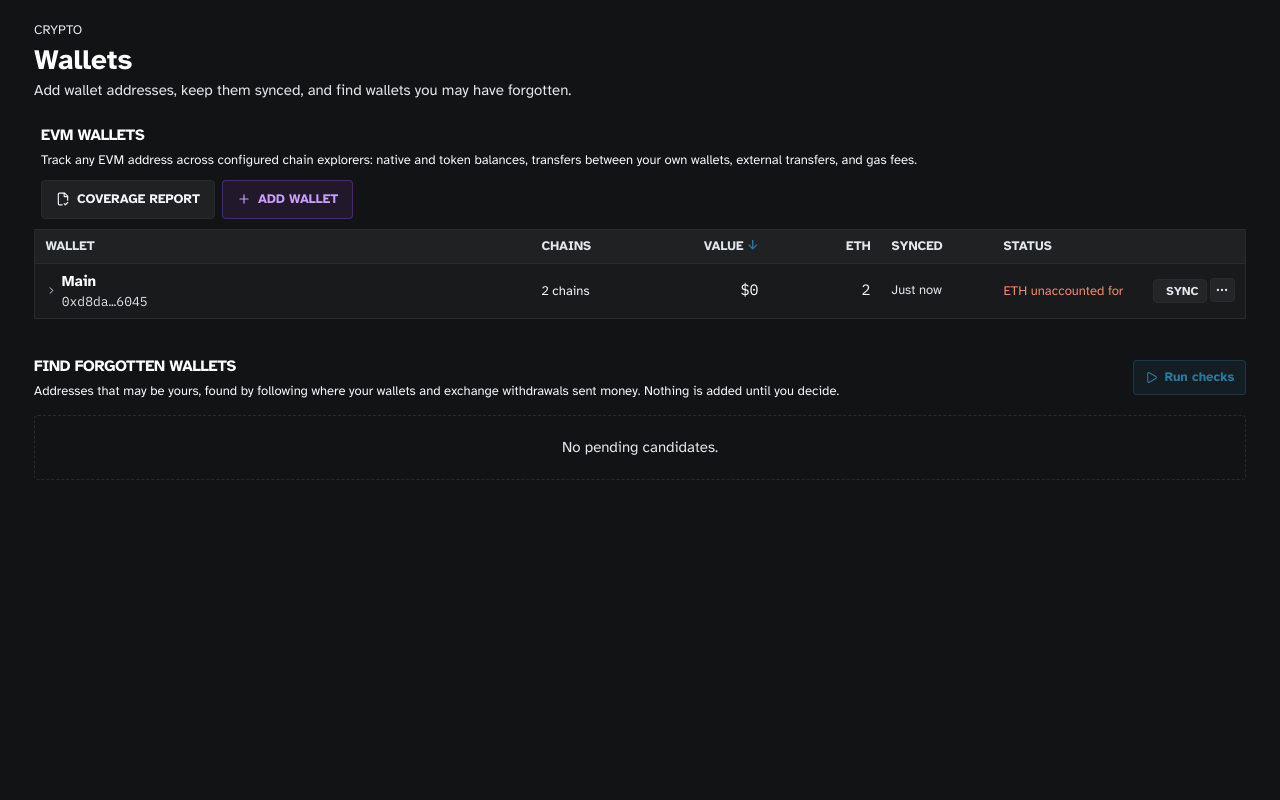
Test: Crypto -> Wallets tab › raises an alert when the derived ETH balance is short
Expected: the heading "EVM Wallets" is shown, [41, 125, 144, 145]
Expected: the text "ETH unaccounted for" is shown, [1004, 283, 1123, 299]
Click the text "Main": (79, 281) [62, 272, 96, 290]
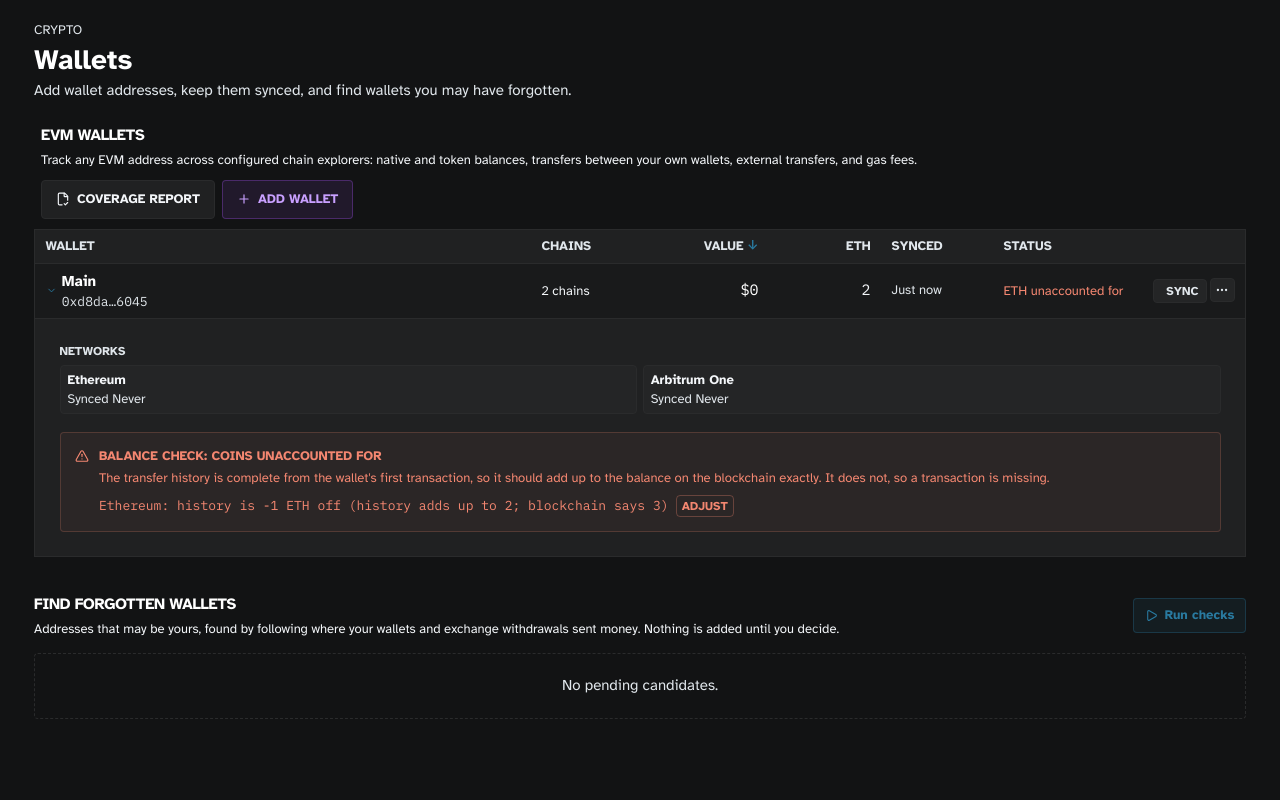
Result: the list item "Ethereum: history is -1 ETH off" is shown at [99, 495, 734, 517]
